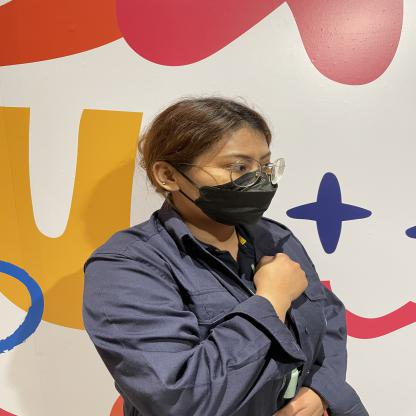Sadness: (214, 242, 319, 348)
